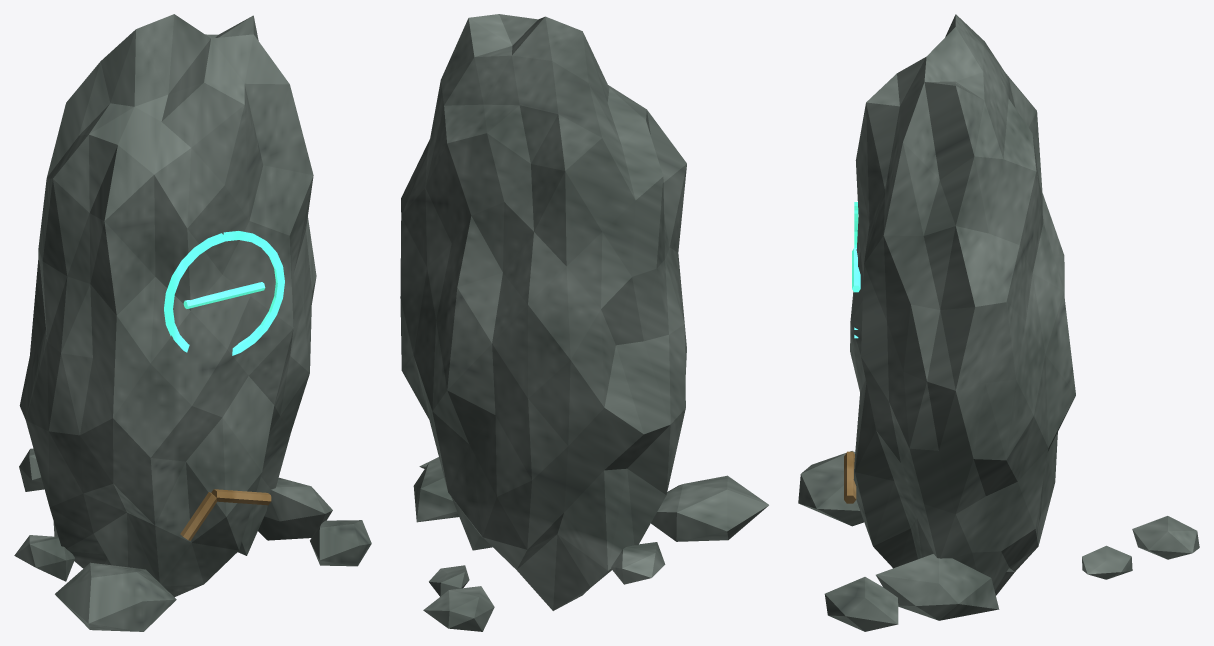
Rendered from 0670_waystone_20.glb.
The picture shows the model from 3 angles, left to right: view 1: azimuth 30°, elevation 25°; view 2: azimuth 150°, elevation 25°; view 3: azimuth 270°, elevation 25°; orthographic projection. The views are drawn at different scales.
Visible parts, largest first — view 1: stone, glow, brass; view 2: stone; view 3: stone, brass.
Part boxes in pixels (x1=…): stone: x1=14, y1=14, x2=371, y2=631; glow: x1=164, y1=231, x2=284, y2=355; brass: x1=180, y1=489, x2=271, y2=540; stone: x1=400, y1=14, x2=768, y2=631; stone: x1=798, y1=14, x2=1199, y2=631; brass: x1=844, y1=451, x2=856, y2=503.
Bounding box in the file's own units: 1.17 × 2.1 × 1.29.
Materials: 3 (3 with a texture image).
